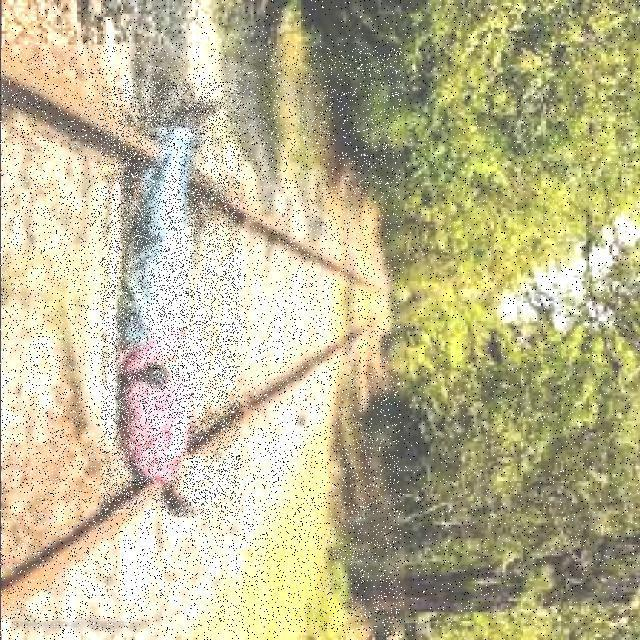danger: (101, 83, 240, 516)
rail: (1, 46, 401, 634)
